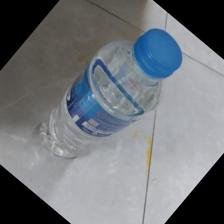Lavie: (39, 26, 184, 157)
